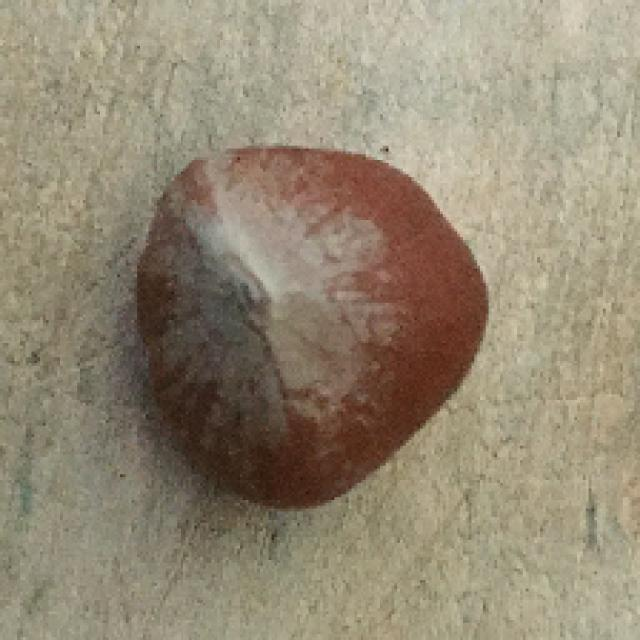qualityHazelnut: (143, 132, 489, 519)
